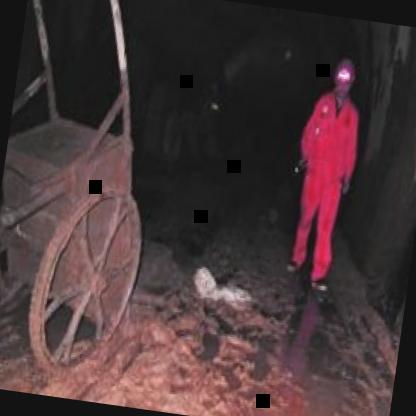helmet: (328, 52, 362, 104)
